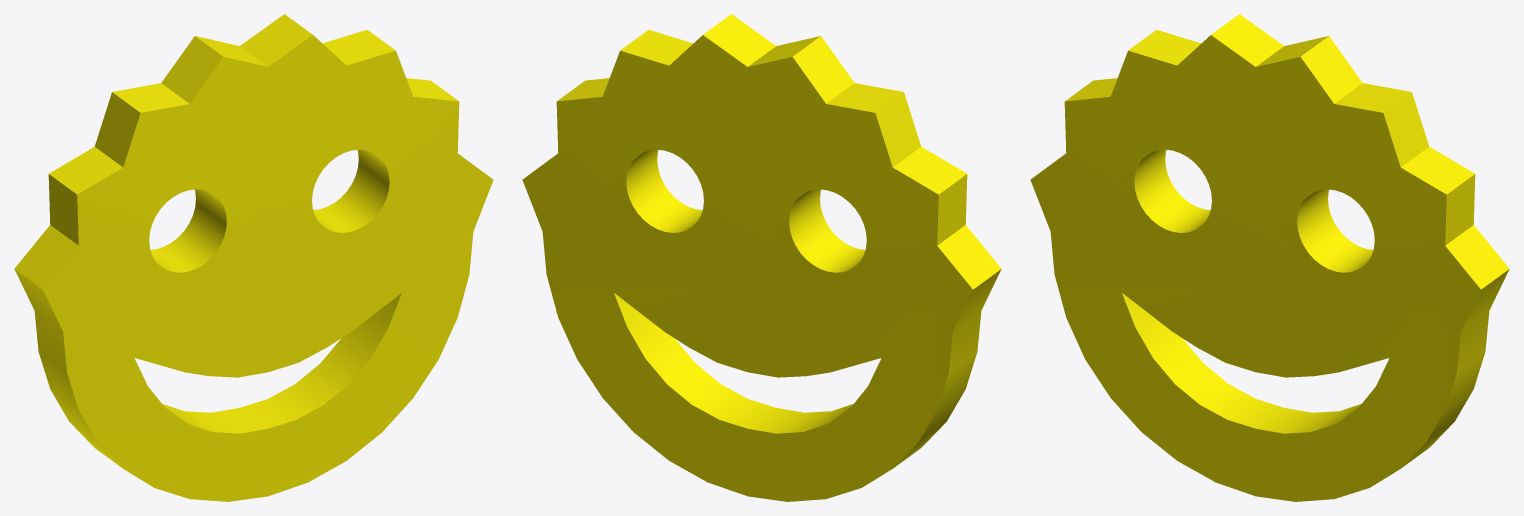
Rendered from sunger.fbx.
The picture shows the model from 3 angles, left to right: view 1: azimuth 30°, elevation 25°; view 2: azimuth 150°, elevation 25°; view 3: azimuth 330°, elevation 25°; orthographic projection.
Parts seen in each view (by area): view 1: sunger; view 2: sunger; view 3: sunger.
Part boxes in pixels (bbox=[...]): sunger: bbox=[14, 14, 493, 501]; sunger: bbox=[522, 14, 1001, 501]; sunger: bbox=[1030, 14, 1509, 501].
Bounding box in the file's own units: 220 × 210 × 26.08.
